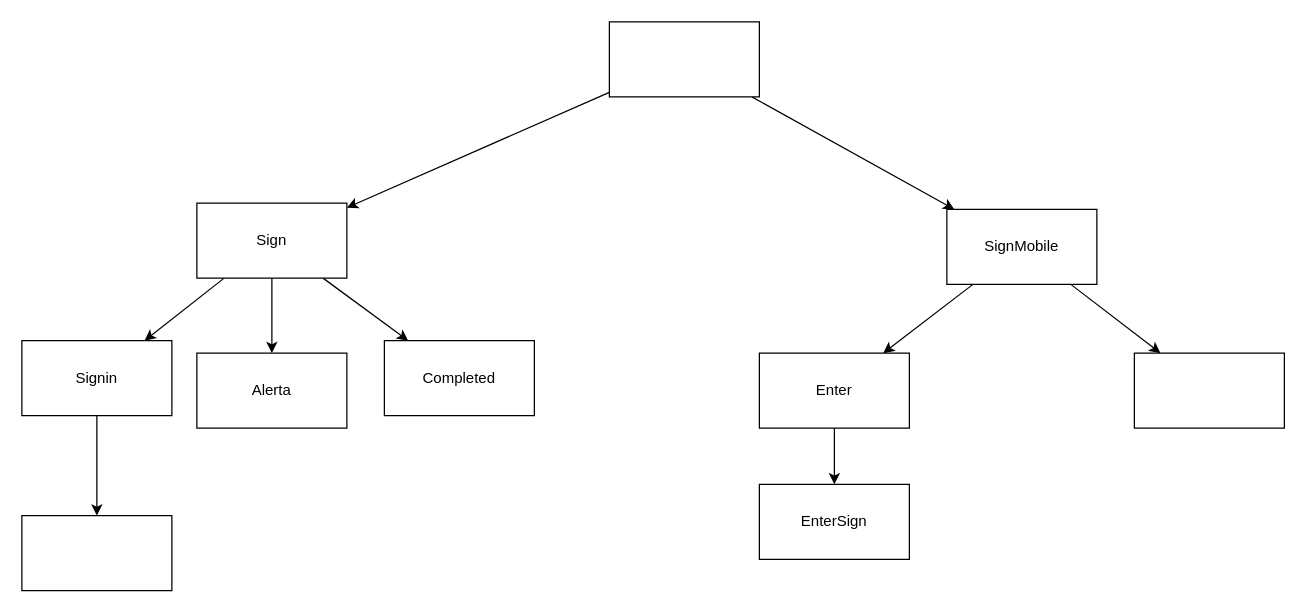
The diagram is 1306 pixels wide and 613 high, and some of its shapes have lost their labels. Each missing label, with the centre of its shape:
App: (683,59)
Signs: (1208,390)
Textfield: (96,552)
